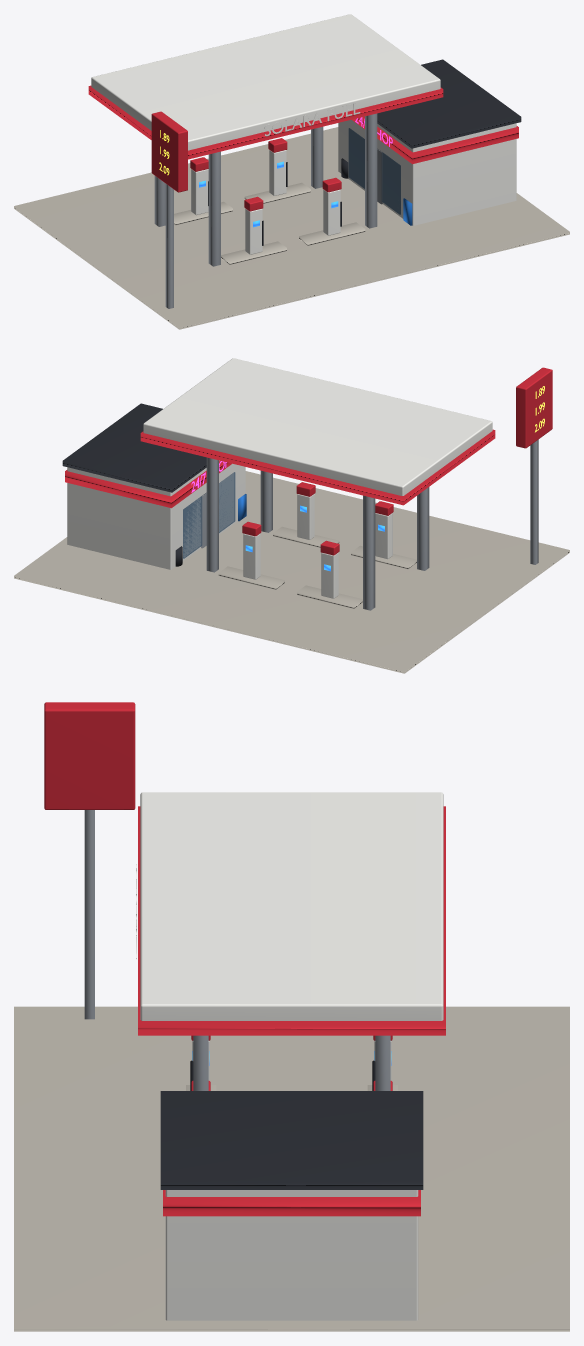
Rendered from gas_station.glb.
The picture shows the model from 3 angles, top to bottom: view 1: azimuth 30°, elevation 25°; view 2: azimuth 150°, elevation 25°; view 3: azimuth 270°, elevation 25°; orthographic projection. The views are drawn at different scales.
Visible parts, largest first — view 1: station; view 2: station; view 3: station.
Part boxes in pixels (<box>): station: <box>14,14,569,329</box>; station: <box>14,358,569,673</box>; station: <box>14,702,569,1331</box>.
Size of the model in its own units: 150 by 69 by 110.
